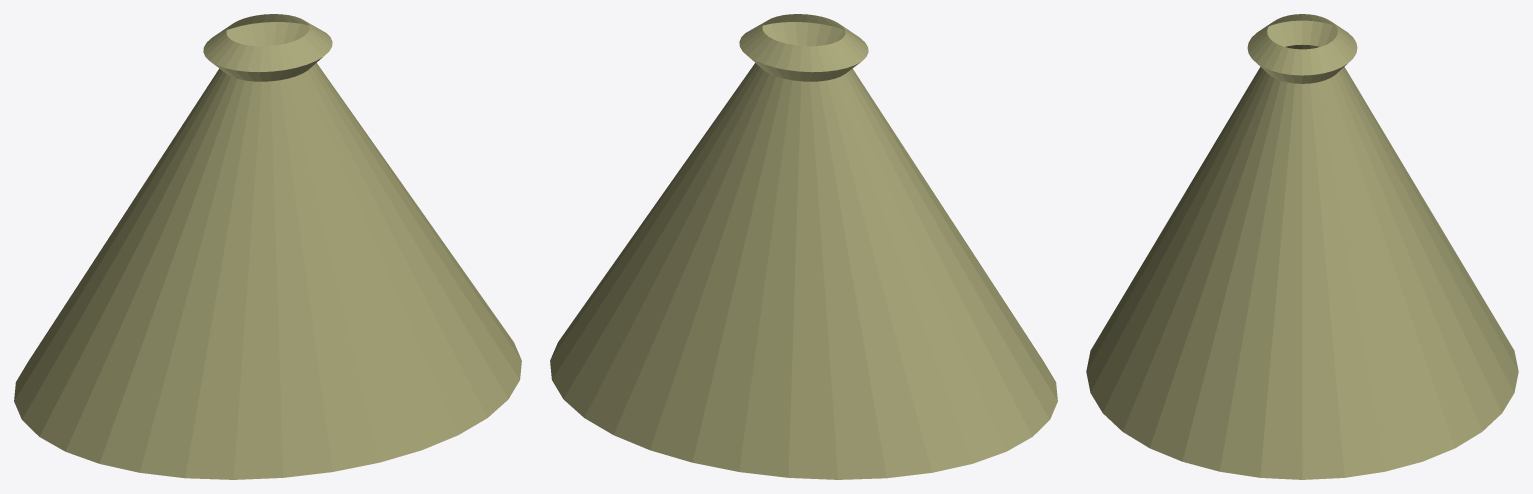
The model's file is large-safety-valve.dae.
3 views of the same model, side by side, from view 1: azimuth 30°, elevation 25°; view 2: azimuth 150°, elevation 25°; view 3: azimuth 270°, elevation 25° (orthographic). The views are drawn at different scales.
Parts seen in each view (by area): view 1: Cylinder_005; view 2: Cylinder_005; view 3: Cylinder_005.
Boxes of the visible parts, bbox=[...] form: Cylinder_005: bbox=[14, 14, 521, 479]; Cylinder_005: bbox=[550, 14, 1057, 479]; Cylinder_005: bbox=[1086, 14, 1518, 479].
Size of the model in its own units: 0.877 by 0.7408 by 0.643.
